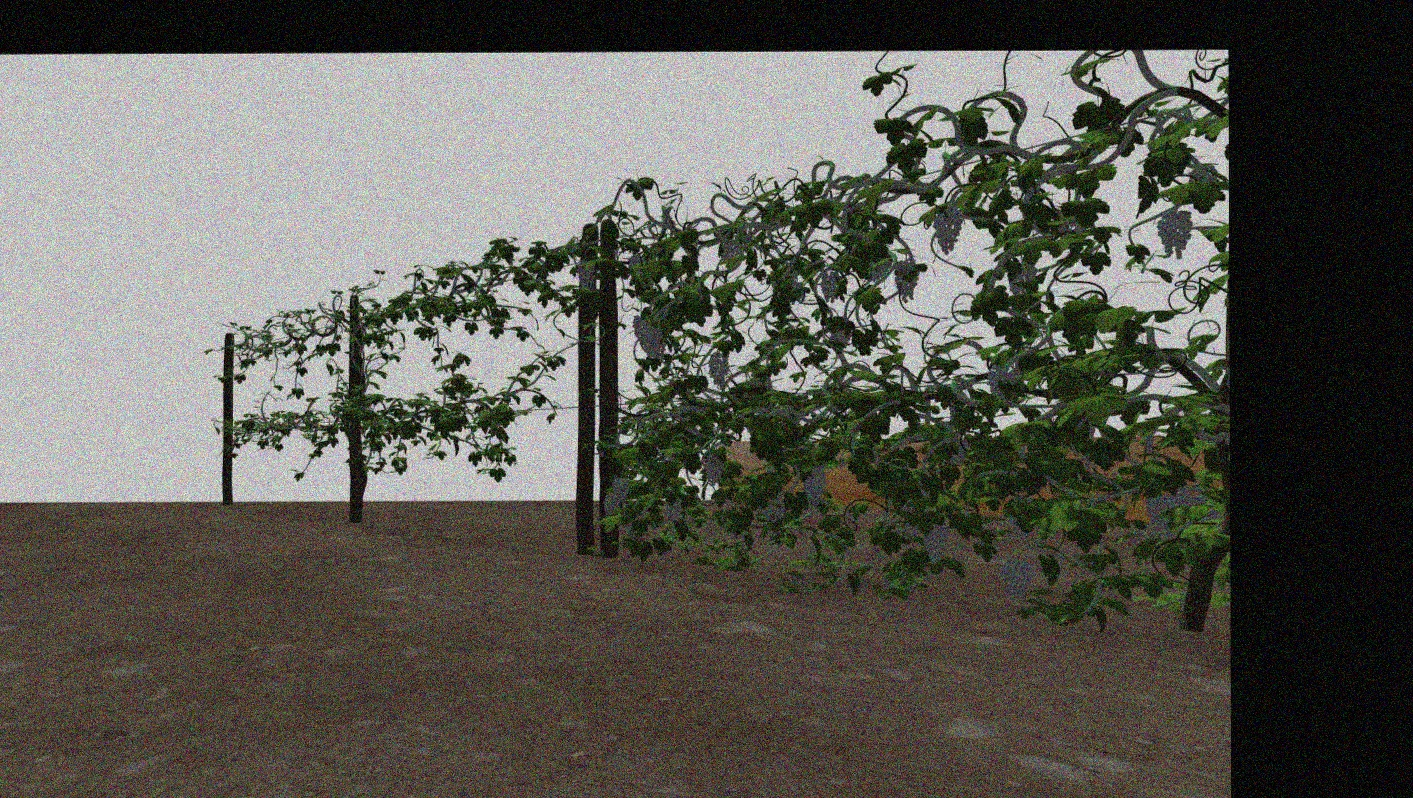grape: (1156, 208, 1195, 260), (932, 204, 963, 255), (999, 557, 1034, 599), (920, 518, 950, 565), (1142, 495, 1175, 536), (987, 368, 1024, 399), (894, 258, 920, 302), (803, 464, 826, 511), (1173, 485, 1207, 509), (701, 450, 724, 485), (706, 351, 727, 385), (820, 270, 841, 303), (574, 261, 596, 291), (641, 326, 662, 357), (762, 502, 785, 525), (630, 313, 650, 339), (611, 475, 629, 500), (602, 491, 620, 516), (662, 501, 682, 523)
